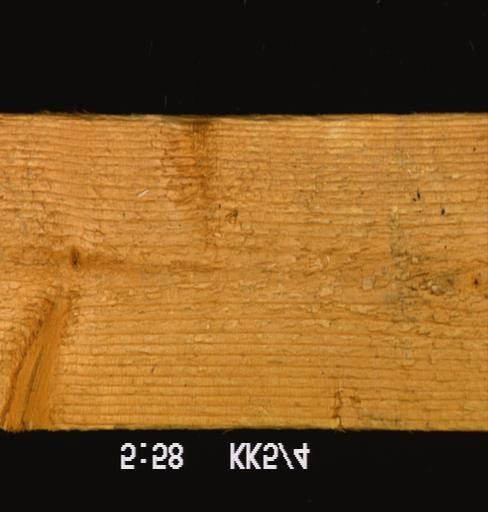small_knot: (65, 241, 83, 279), (467, 273, 483, 292)
wave: (59, 114, 384, 138)
